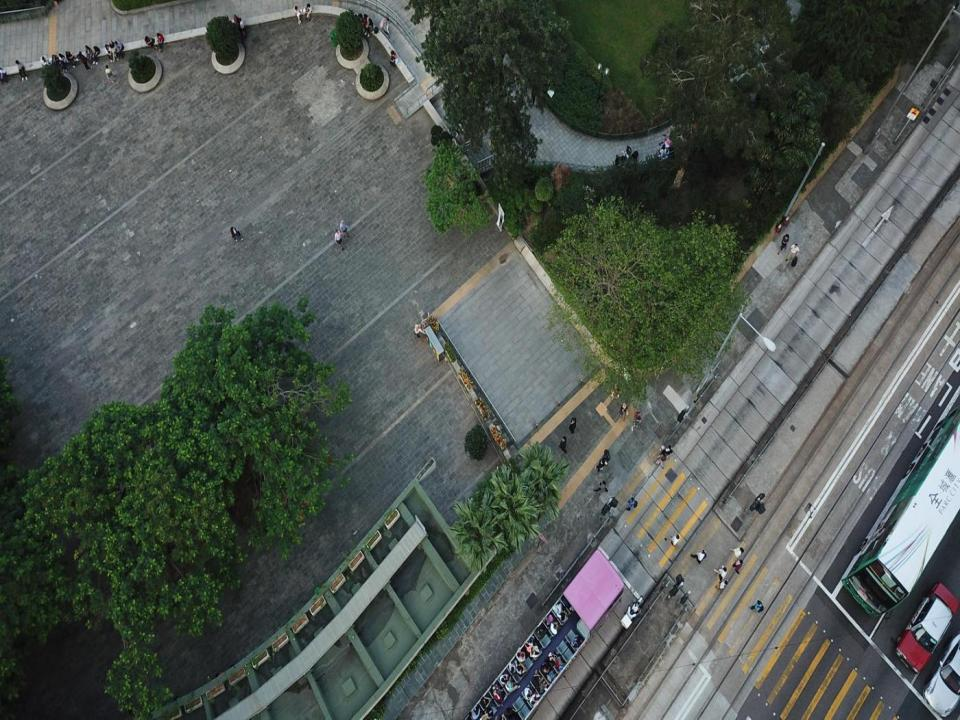bus: (840, 390, 960, 618)
car: (895, 581, 960, 674), (922, 629, 960, 717)
